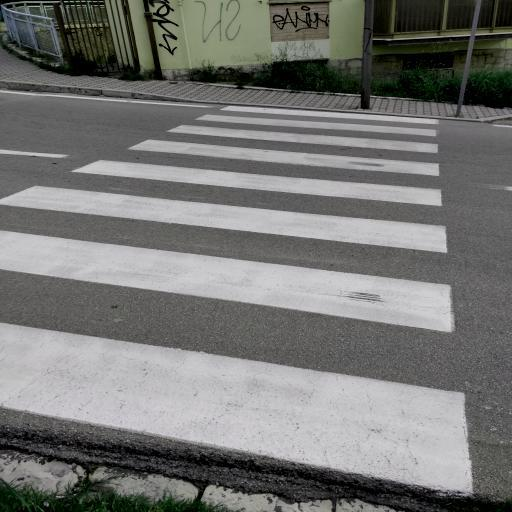crosswalk: (0, 154, 473, 259), (174, 104, 442, 142)
